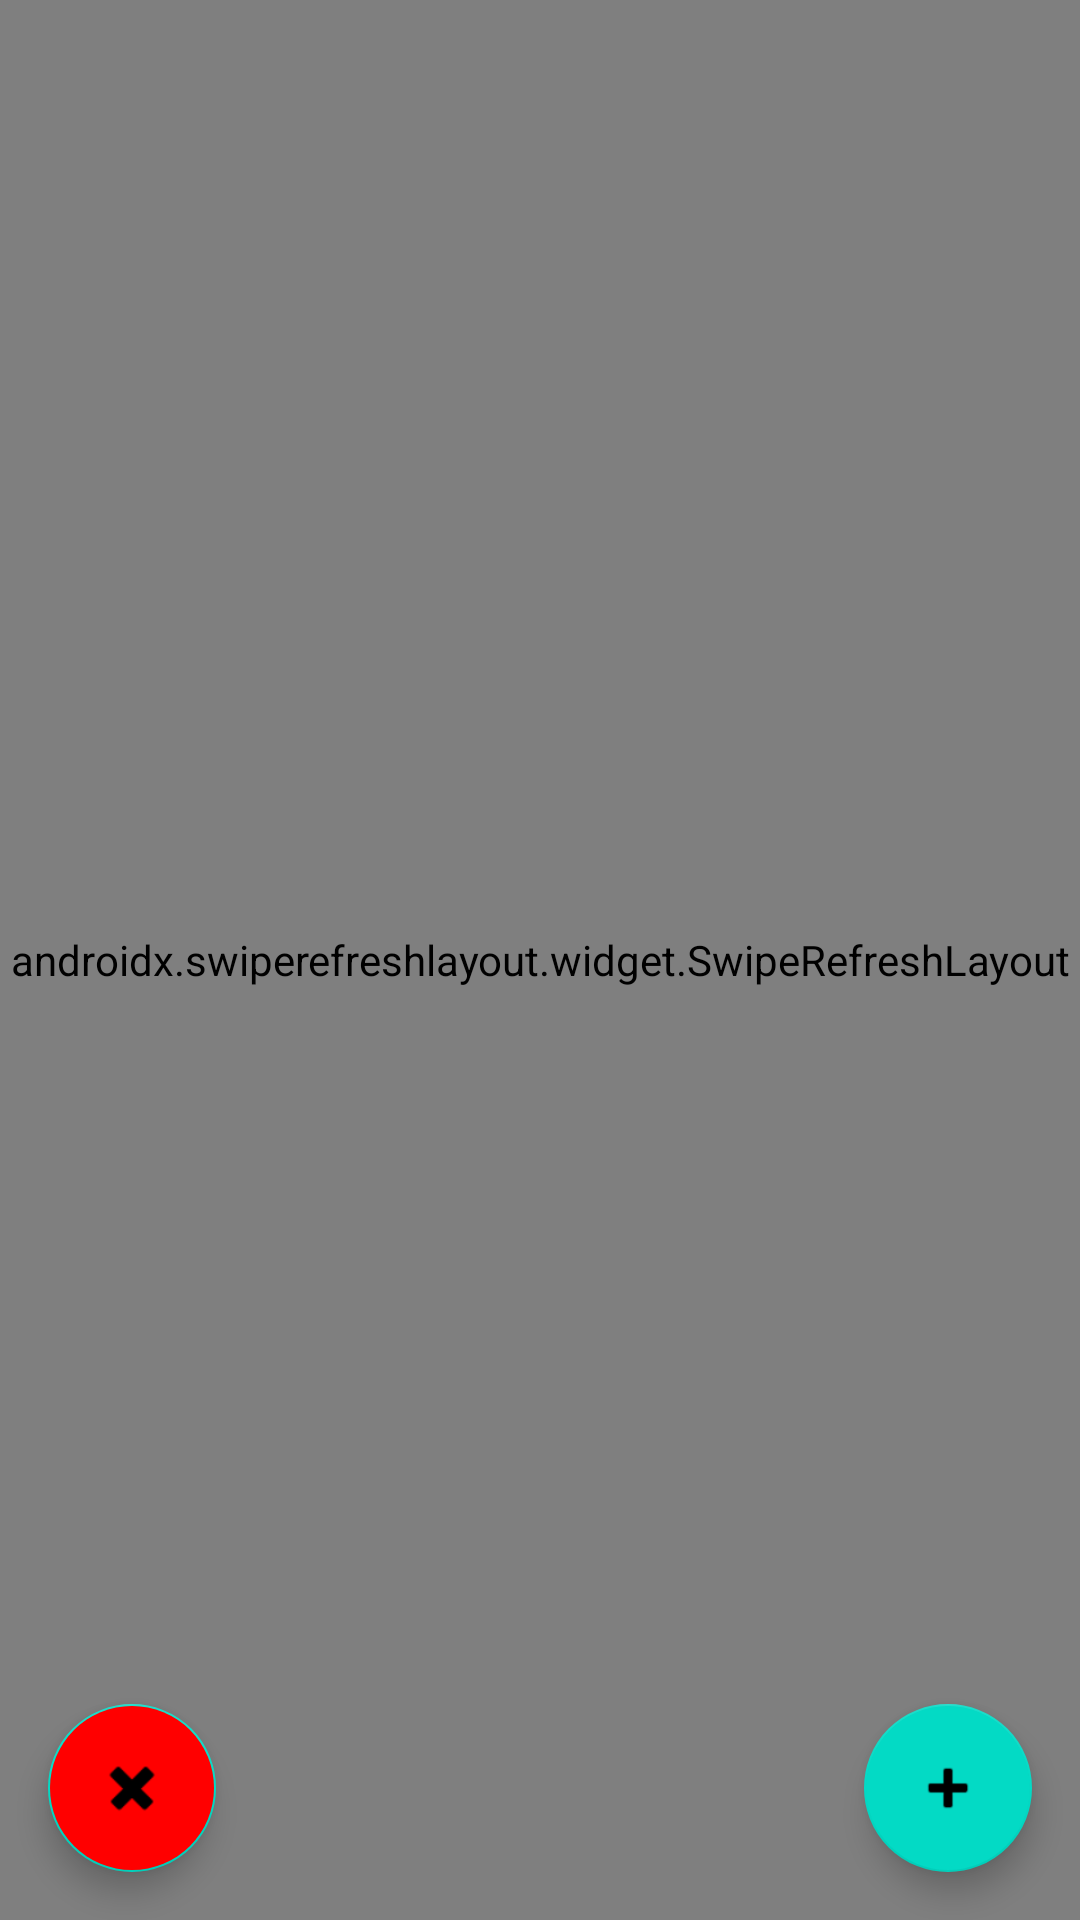

Icon click points for this 1080×1920 phone screenshot, format (x,y):
add: (948,1788)
delete: (132,1788)
